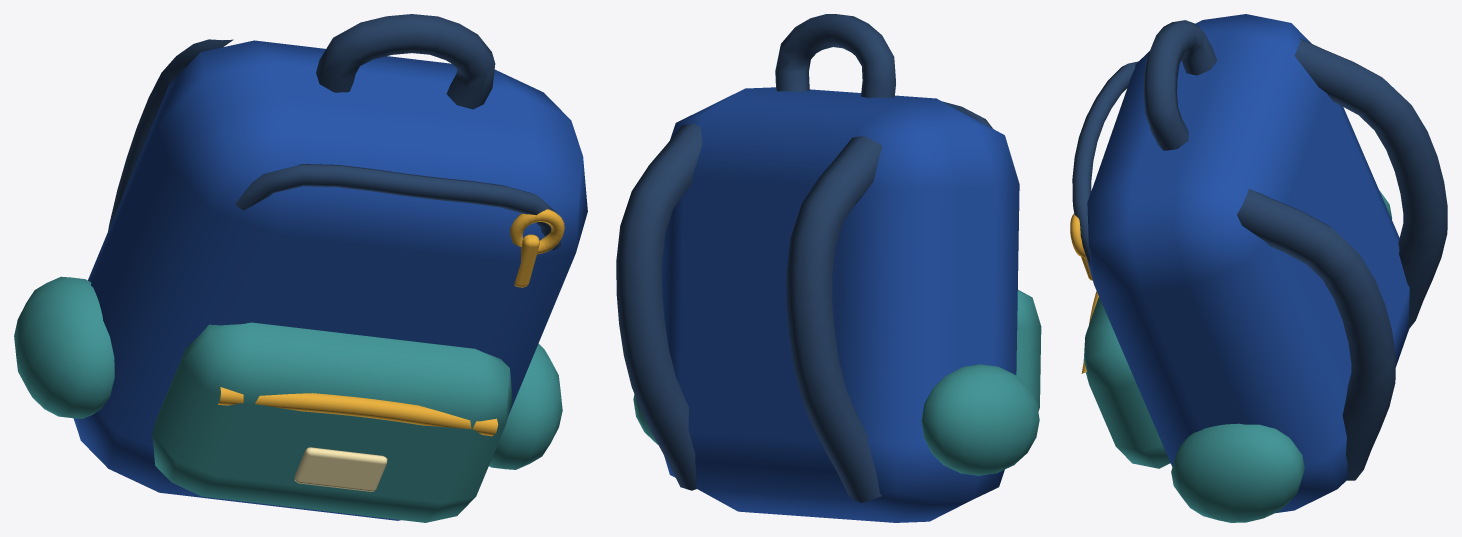
The model's file is school-backpack.glb.
3 views of the same model, side by side, from view 1: azimuth 30°, elevation 25°; view 2: azimuth 150°, elevation 25°; view 3: azimuth 270°, elevation 25° (orthographic). The views are drawn at different scales.
Parts seen in each view (by area): view 1: school-backpack; view 2: school-backpack; view 3: school-backpack.
Part boxes in pixels (<box>): school-backpack: <box>14,14,587,522</box>; school-backpack: <box>616,14,1041,522</box>; school-backpack: <box>1070,14,1447,522</box>.
Bounding box in the file's own units: 0.7768 × 0.8197 × 0.6155.
